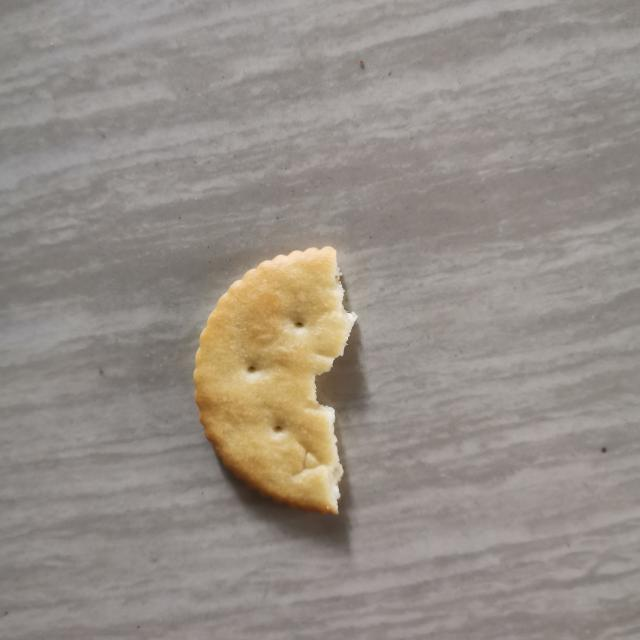Broken: (192, 244, 358, 516)
